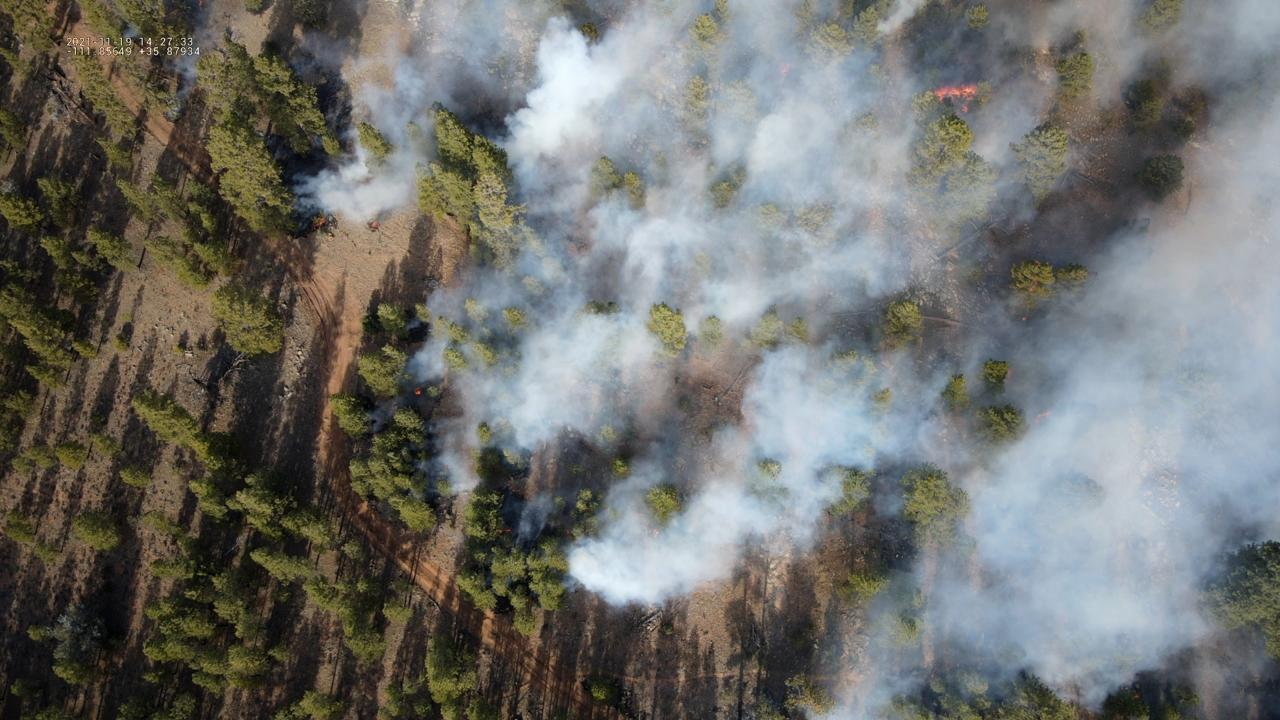fire: (933, 81, 979, 113), (777, 63, 789, 78), (314, 217, 325, 231), (370, 220, 380, 230), (414, 387, 422, 397), (501, 528, 513, 533), (197, 0, 205, 7), (1021, 317, 1027, 321)
smoke: (287, 0, 1280, 720), (170, 0, 219, 103), (121, 25, 141, 38)
